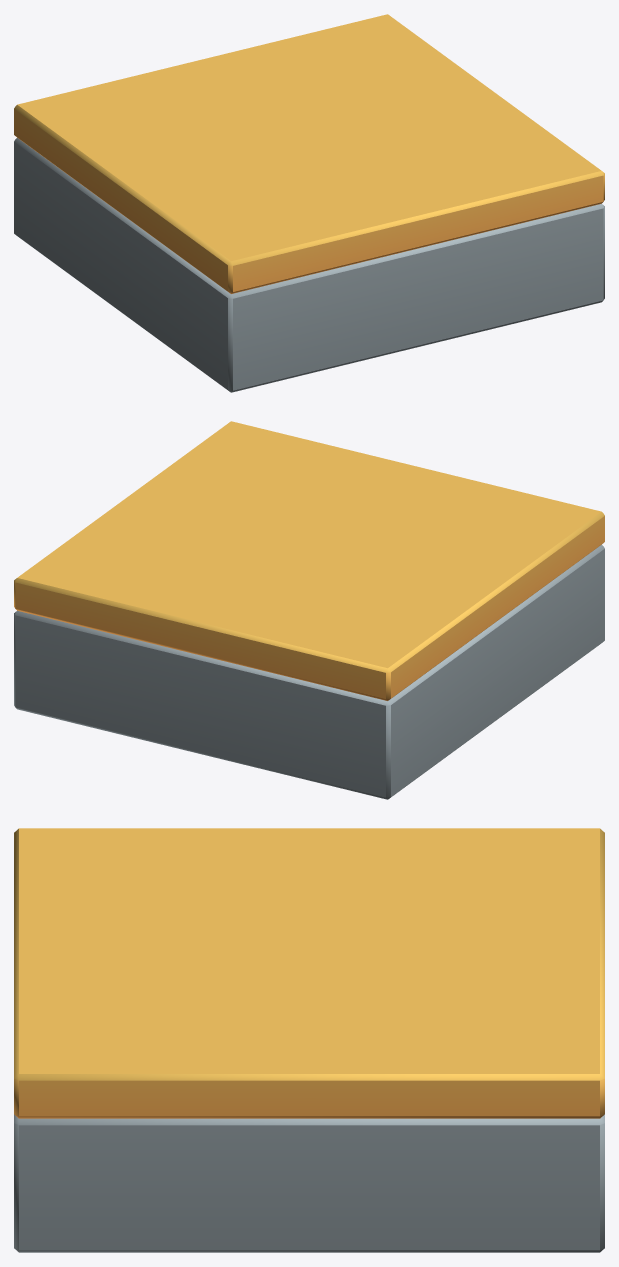
File: platform_6x6x2_yellow.glb
The picture shows the model from 3 angles, top to bottom: view 1: azimuth 30°, elevation 25°; view 2: azimuth 150°, elevation 25°; view 3: azimuth 270°, elevation 25°; orthographic projection. The views are drawn at different scales.
Parts seen in each view (by area): view 1: platform_6x6x2_yellow; view 2: platform_6x6x2_yellow; view 3: platform_6x6x2_yellow.
Part boxes in pixels (left/top/right/bottom): platform_6x6x2_yellow: left=14, top=14, right=604, bottom=392; platform_6x6x2_yellow: left=14, top=421, right=604, bottom=799; platform_6x6x2_yellow: left=14, top=828, right=604, bottom=1252.
Size of the model in its own units: 6 by 2 by 6.
Materials: 1 (1 with a texture image).
